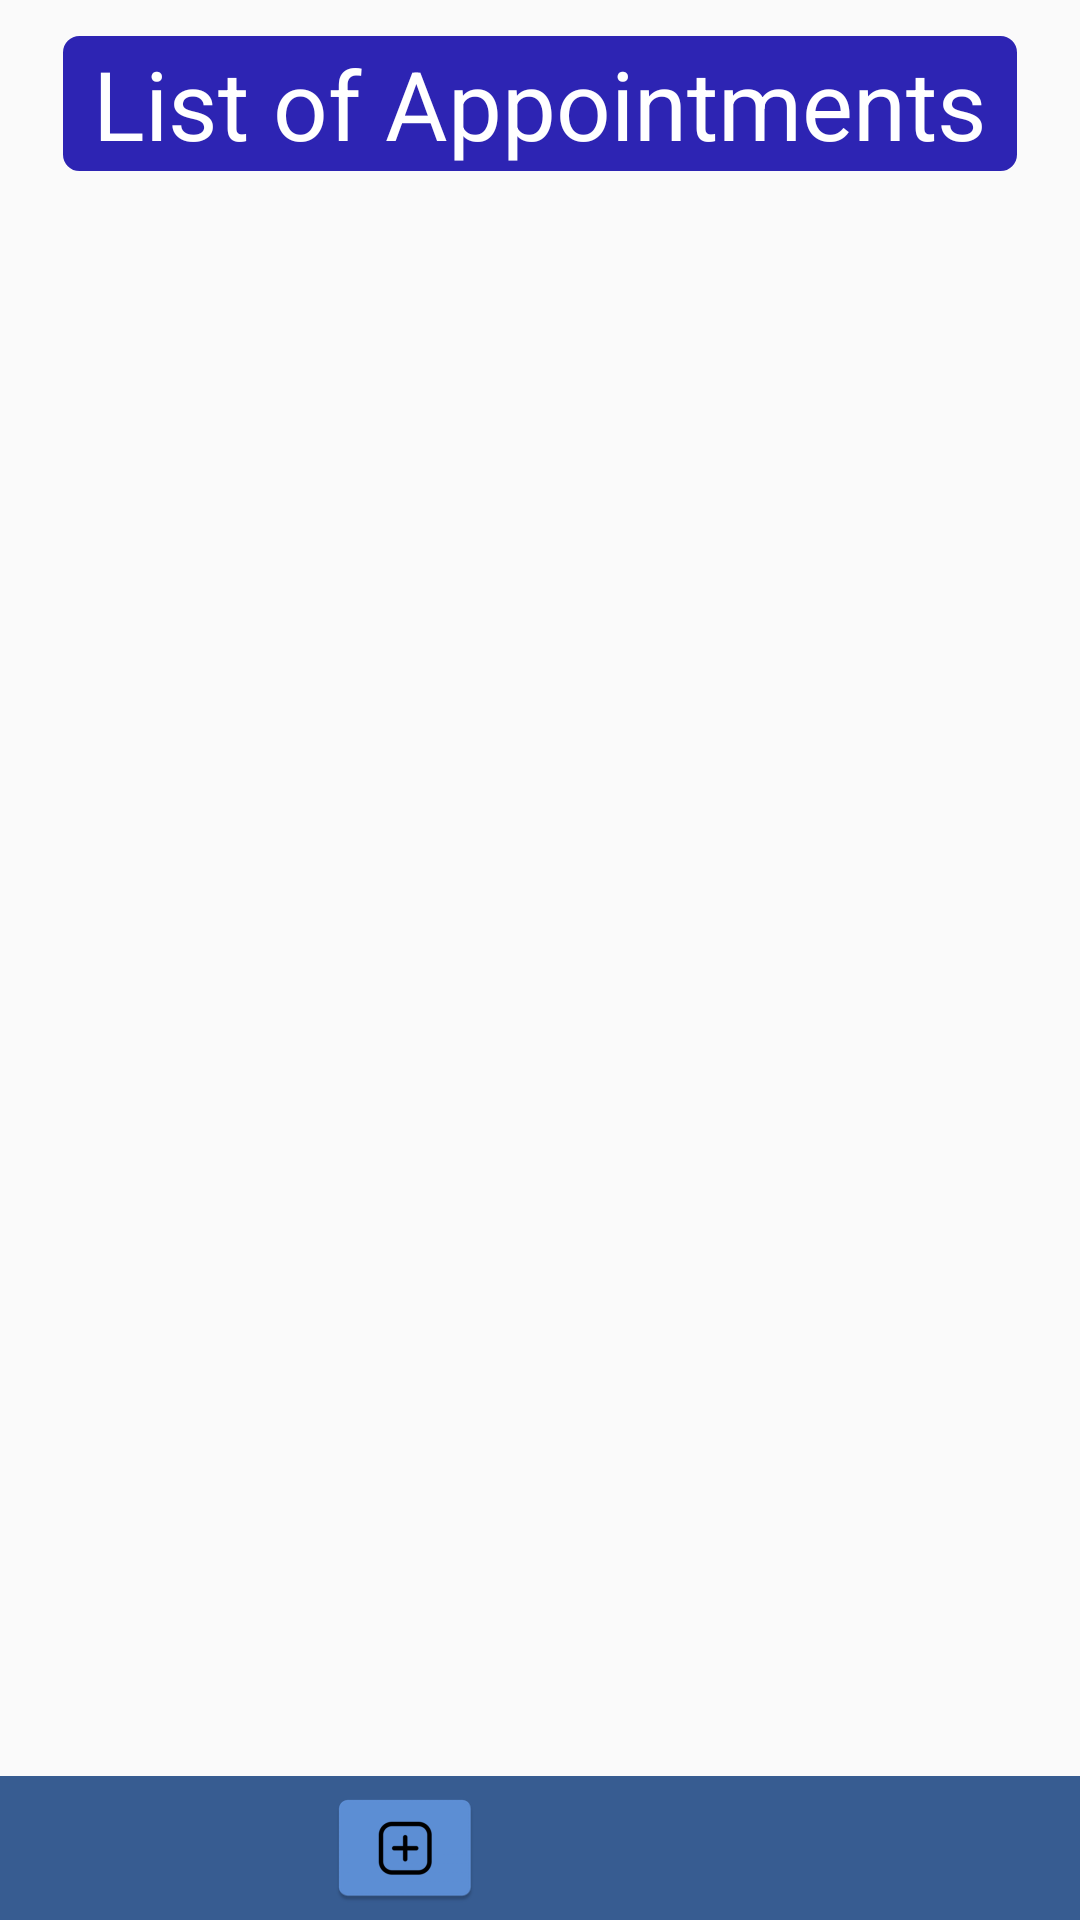

Screen size 1080*1920. Icon name, then its box in pixels as (x1, y1, x2, y2):
add: (339, 1800, 471, 1898)
